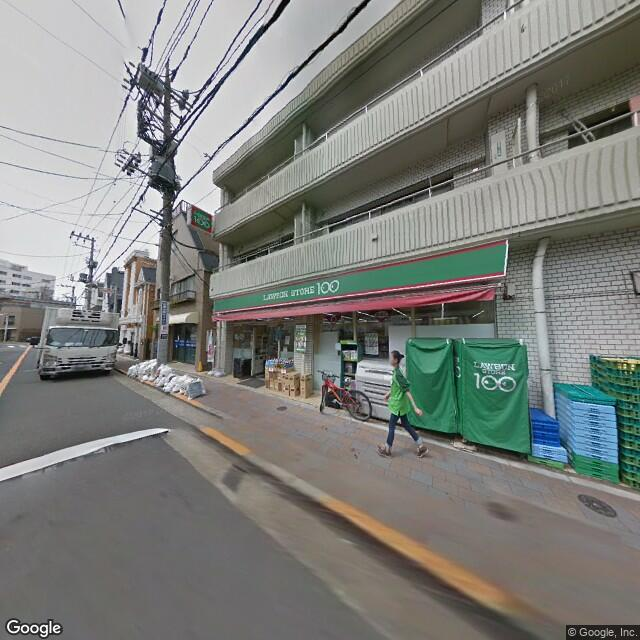lawson: (215, 236, 511, 315), (470, 345, 520, 400), (189, 202, 212, 232)
